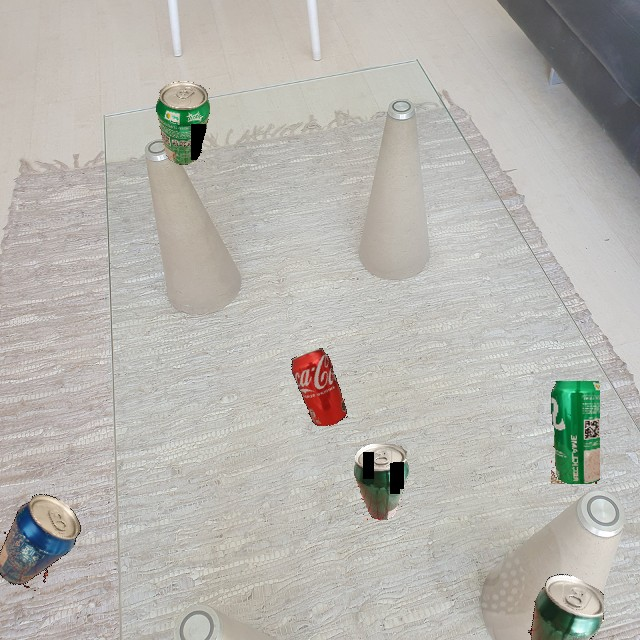coca cola: (288, 348, 348, 426)
pepsi: (0, 485, 87, 591)
schweppes: (510, 567, 604, 640), (354, 444, 409, 521)
sprite: (551, 381, 600, 484), (156, 81, 212, 165)
